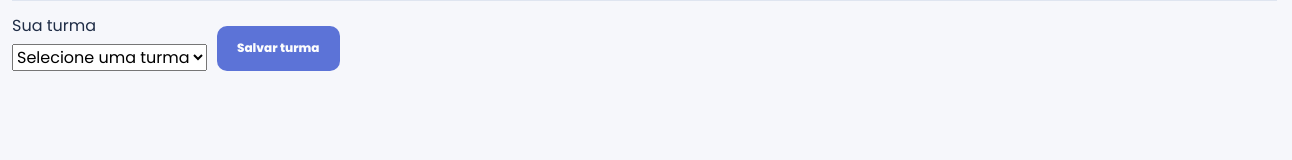
Test: saves the first class and lets the server determine the cooldown
The image size is (1292, 160).
Select "2° TECH D" in the dropdown labelled "Sua turma" at {"x": 110, "y": 57}, box x1=12 y1=44 x2=207 y2=71
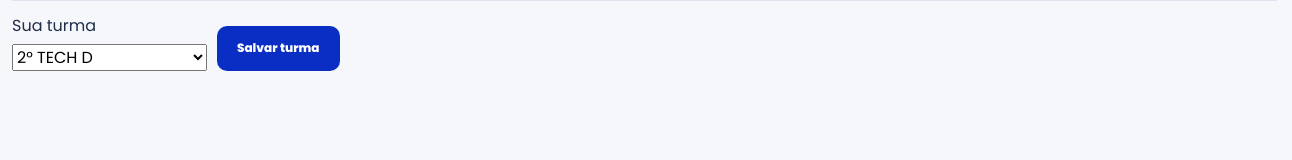
Click the button "Salvar turma" at {"x": 278, "y": 48}, box x1=217 y1=26 x2=340 y2=71
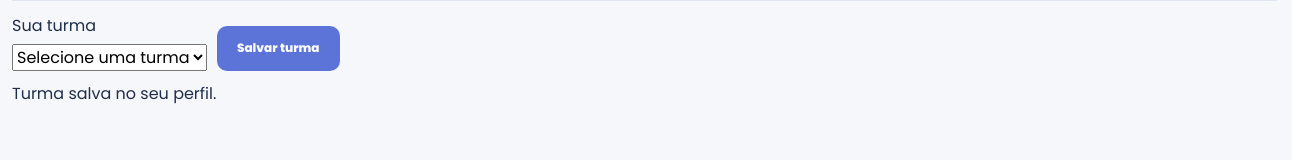
Expected: the text "Turma salva no seu perfil." is shown, x1=12 y1=82 x2=216 y2=105
